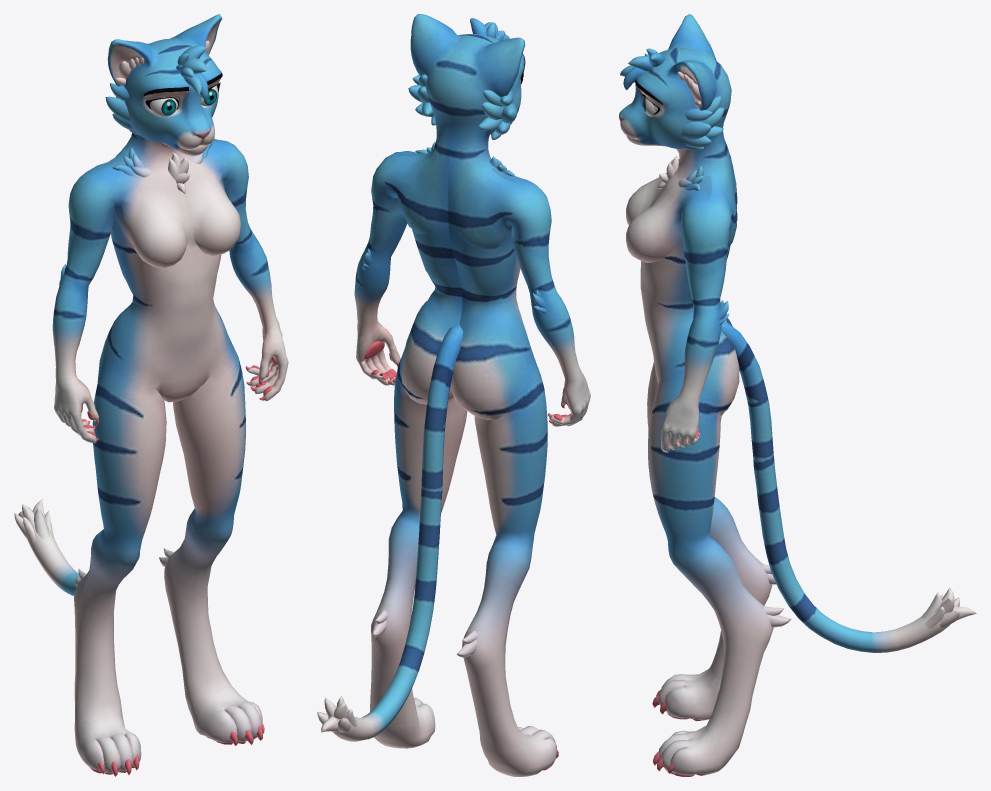
File: CatDraco.gltf
The picture shows the model from 3 angles, left to right: view 1: azimuth 30°, elevation 25°; view 2: azimuth 150°, elevation 25°; view 3: azimuth 270°, elevation 25°; orthographic projection. The views are drawn at different scales.
Visible parts, largest first — view 1: Body, Sphere; view 2: Body; view 3: Body.
Boxes of the visible parts, <box> form: Body: <box>14,14,288,776</box>; Sphere: <box>150,86,218,117</box>; Body: <box>317,14,590,776</box>; Body: <box>619,14,976,776</box>.
Size of the model in its own units: 63.9 by 198 by 91.55.
2 materials, 2 textured.
